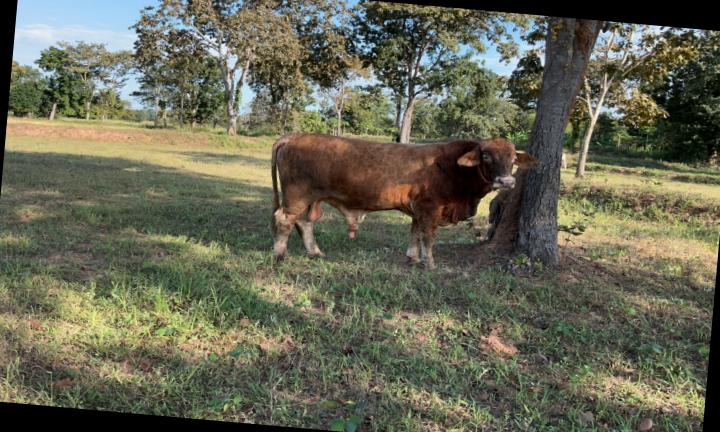Charolais: (271, 132, 541, 267)
